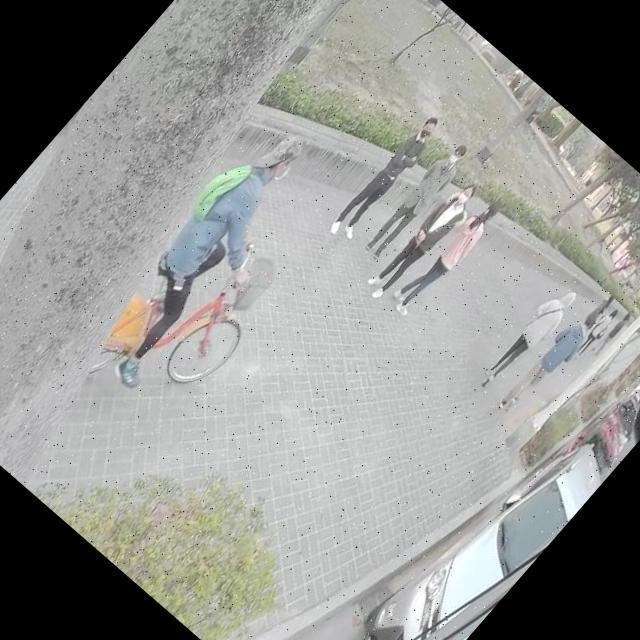person: (66, 102, 353, 410), (354, 165, 493, 317), (328, 112, 447, 244), (360, 136, 476, 262), (390, 197, 502, 321), (474, 279, 582, 398), (498, 305, 602, 420), (572, 307, 620, 360), (580, 290, 618, 332)
